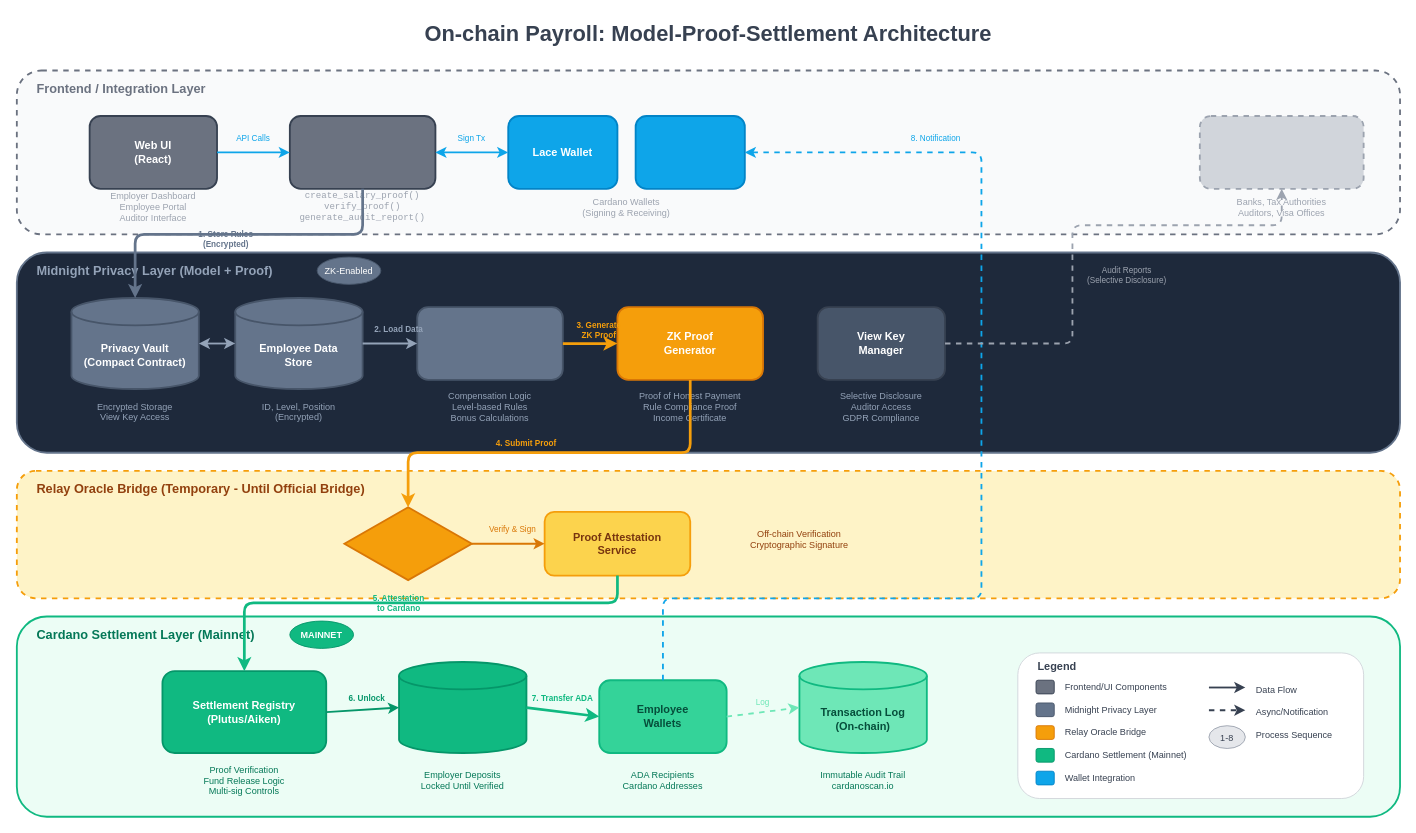
This 1416x833 diagram has some shape labels left out. The shapes that lost their labels are listed below. From the top down, each one's centre as x and y in pixels, then its label:
At (362,152): "Compliance SDK (TypeScript)".
At (689,152): "Nami Wallet".
At (1281,152): "External Parties".
At (489,343): "Salary Rules Engine".
At (407,543): "Relay Oracle Service".
At (462,707): "Fund Escrow (ADA/Tokens)".
